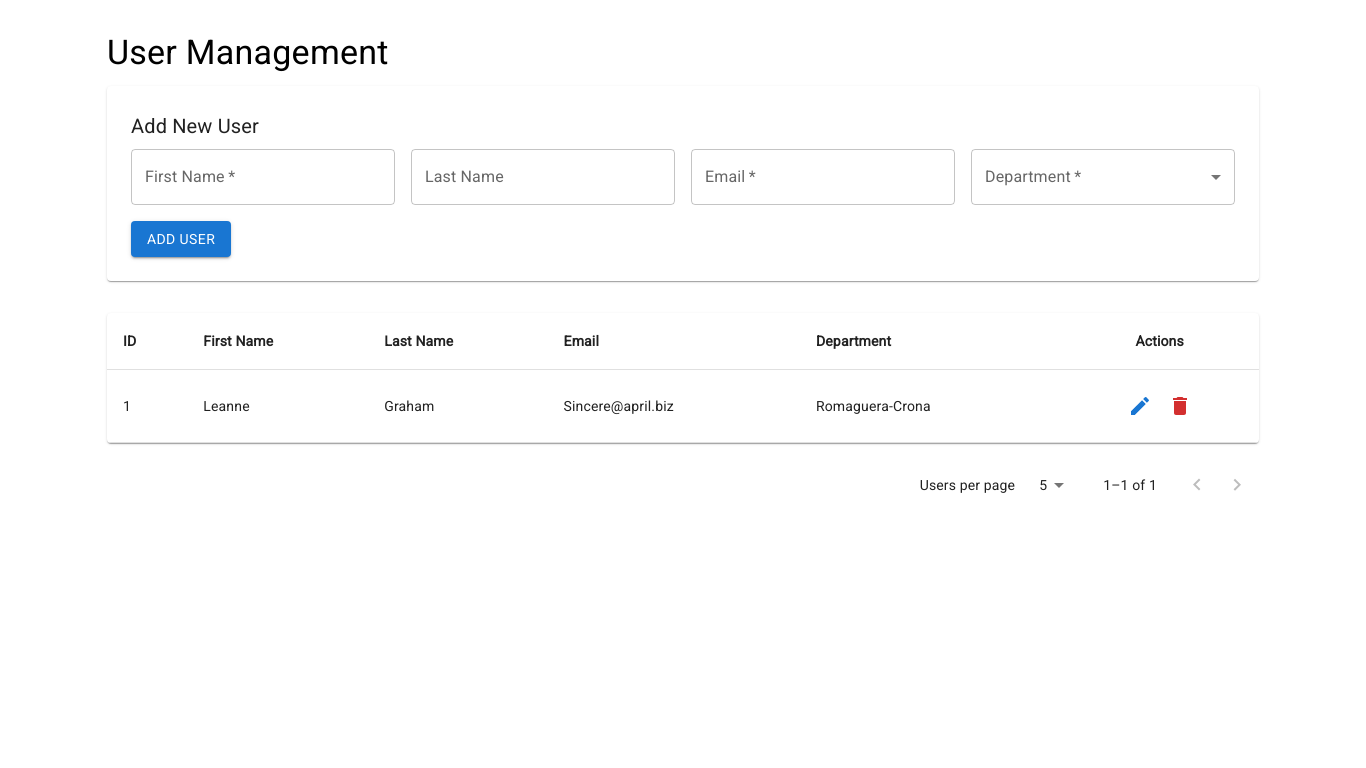
Test case: UserManagement Component › handles delete user
# Click the delete button for the user
Click the button named "delete" at (1180, 406), box left=1160, top=386, right=1200, bottom=426
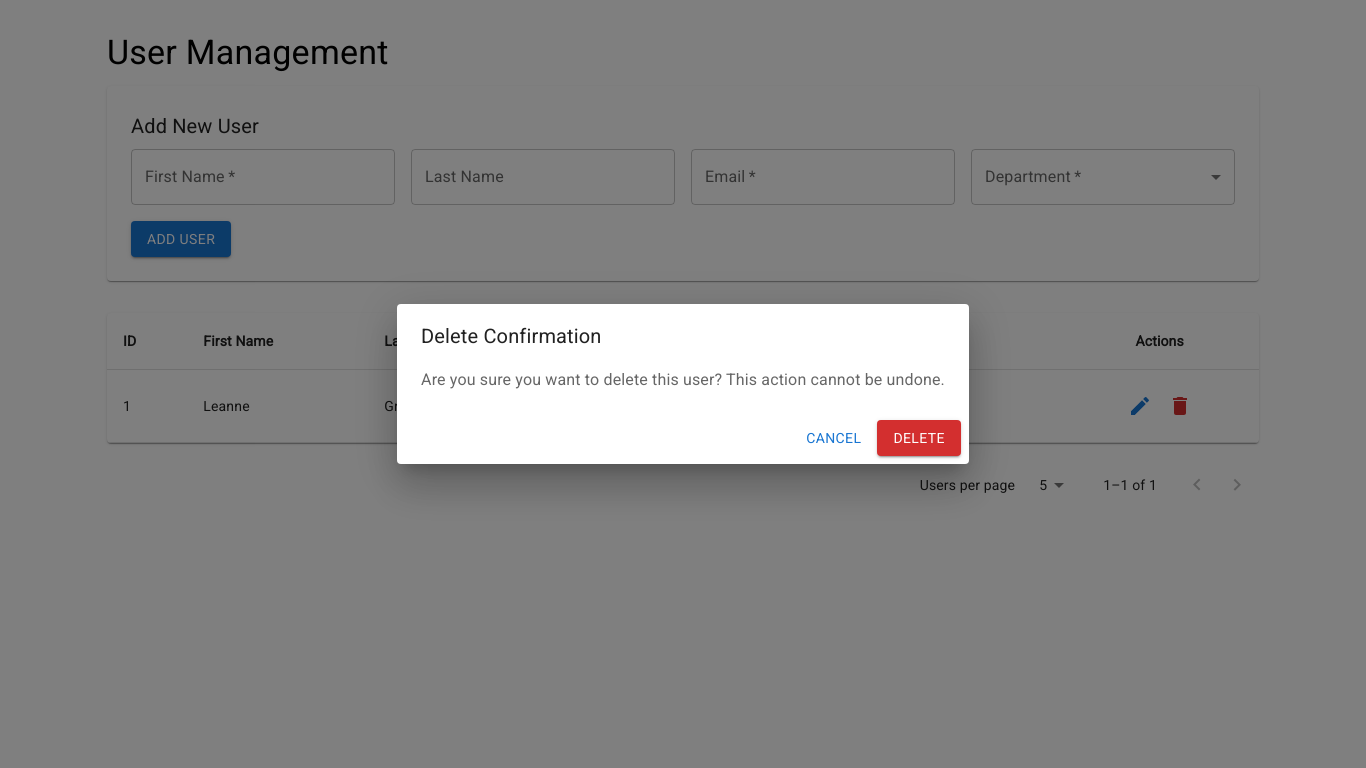
Expected: the heading "Delete Confirmation" is shown, left=421, top=324, right=602, bottom=348
# Click the "Delete" button in the dialog
Click the button "Delete" at (919, 438), box left=877, top=420, right=961, bottom=456
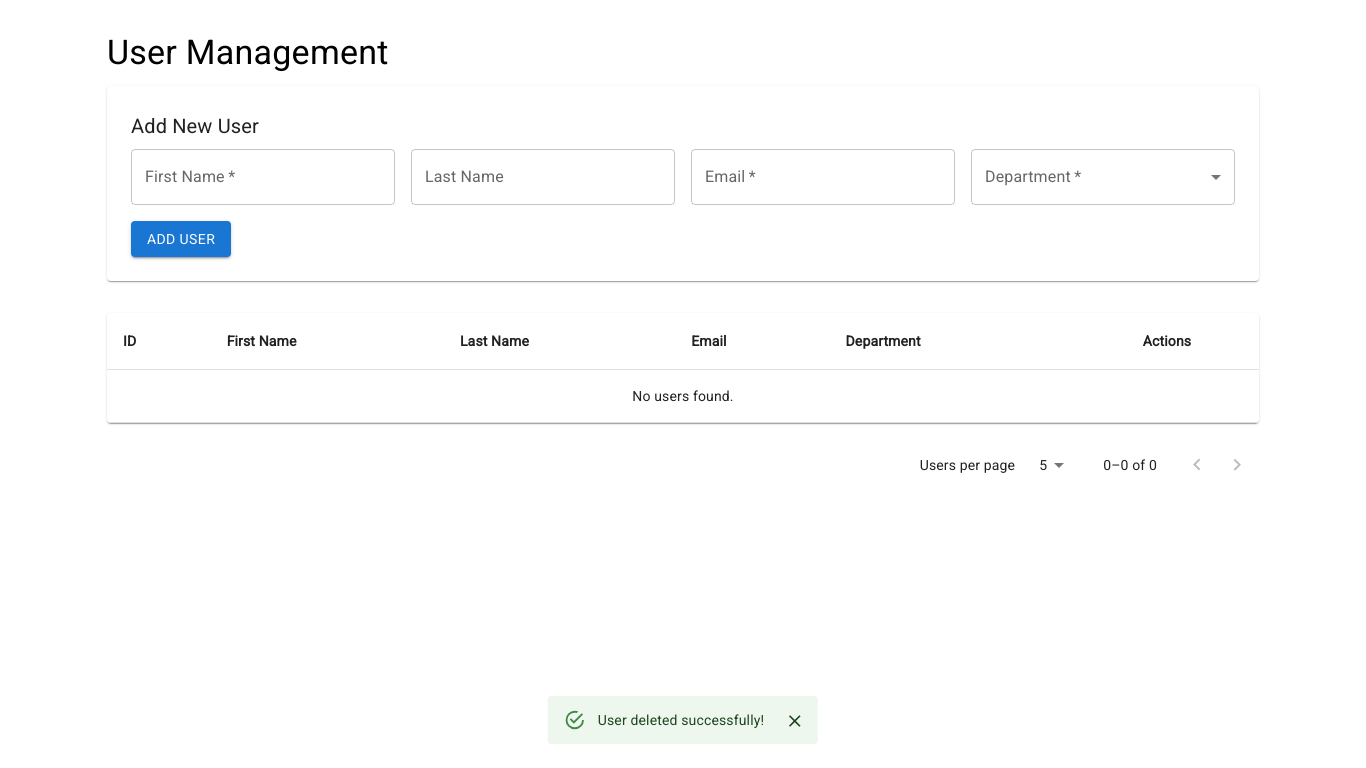
Expected: the text "User deleted successfully!" is shown, left=598, top=712, right=764, bottom=728
Expected: the text "Leanne" is gone
Expected: the text "Graham" is gone
